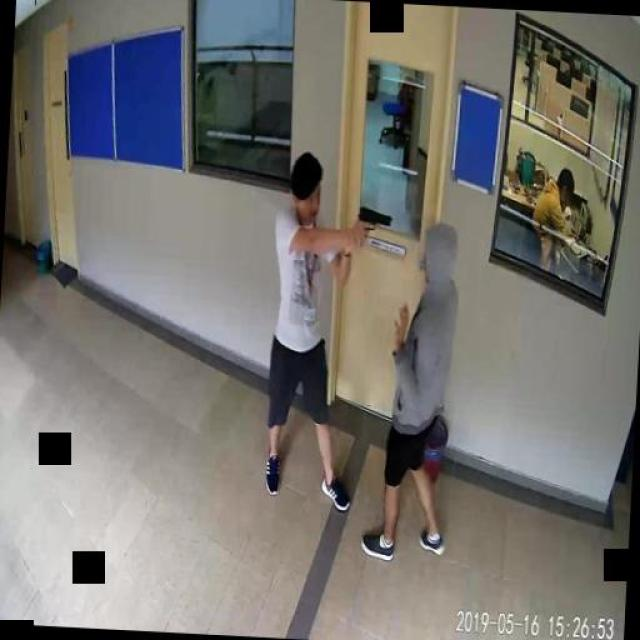gun: (356, 204, 392, 248)
